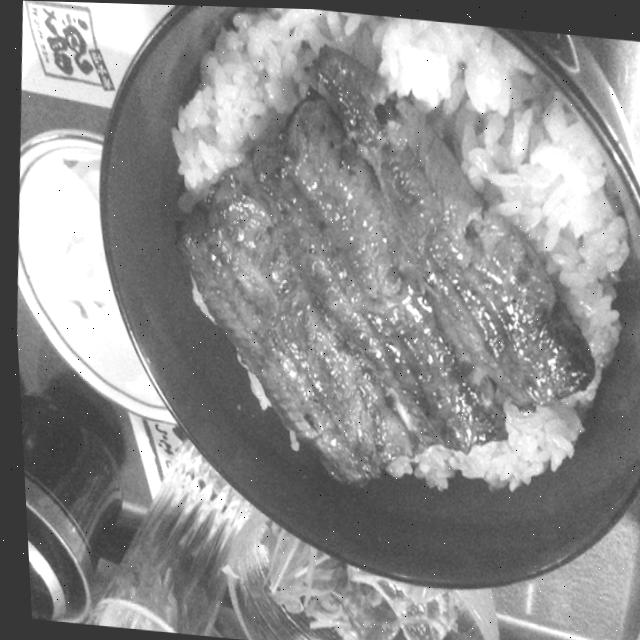熟制海鲜: (75, 2, 640, 603)
